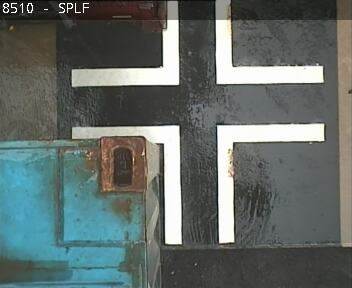groundmarker_1: (72, 122, 322, 242), (70, 1, 322, 86)
